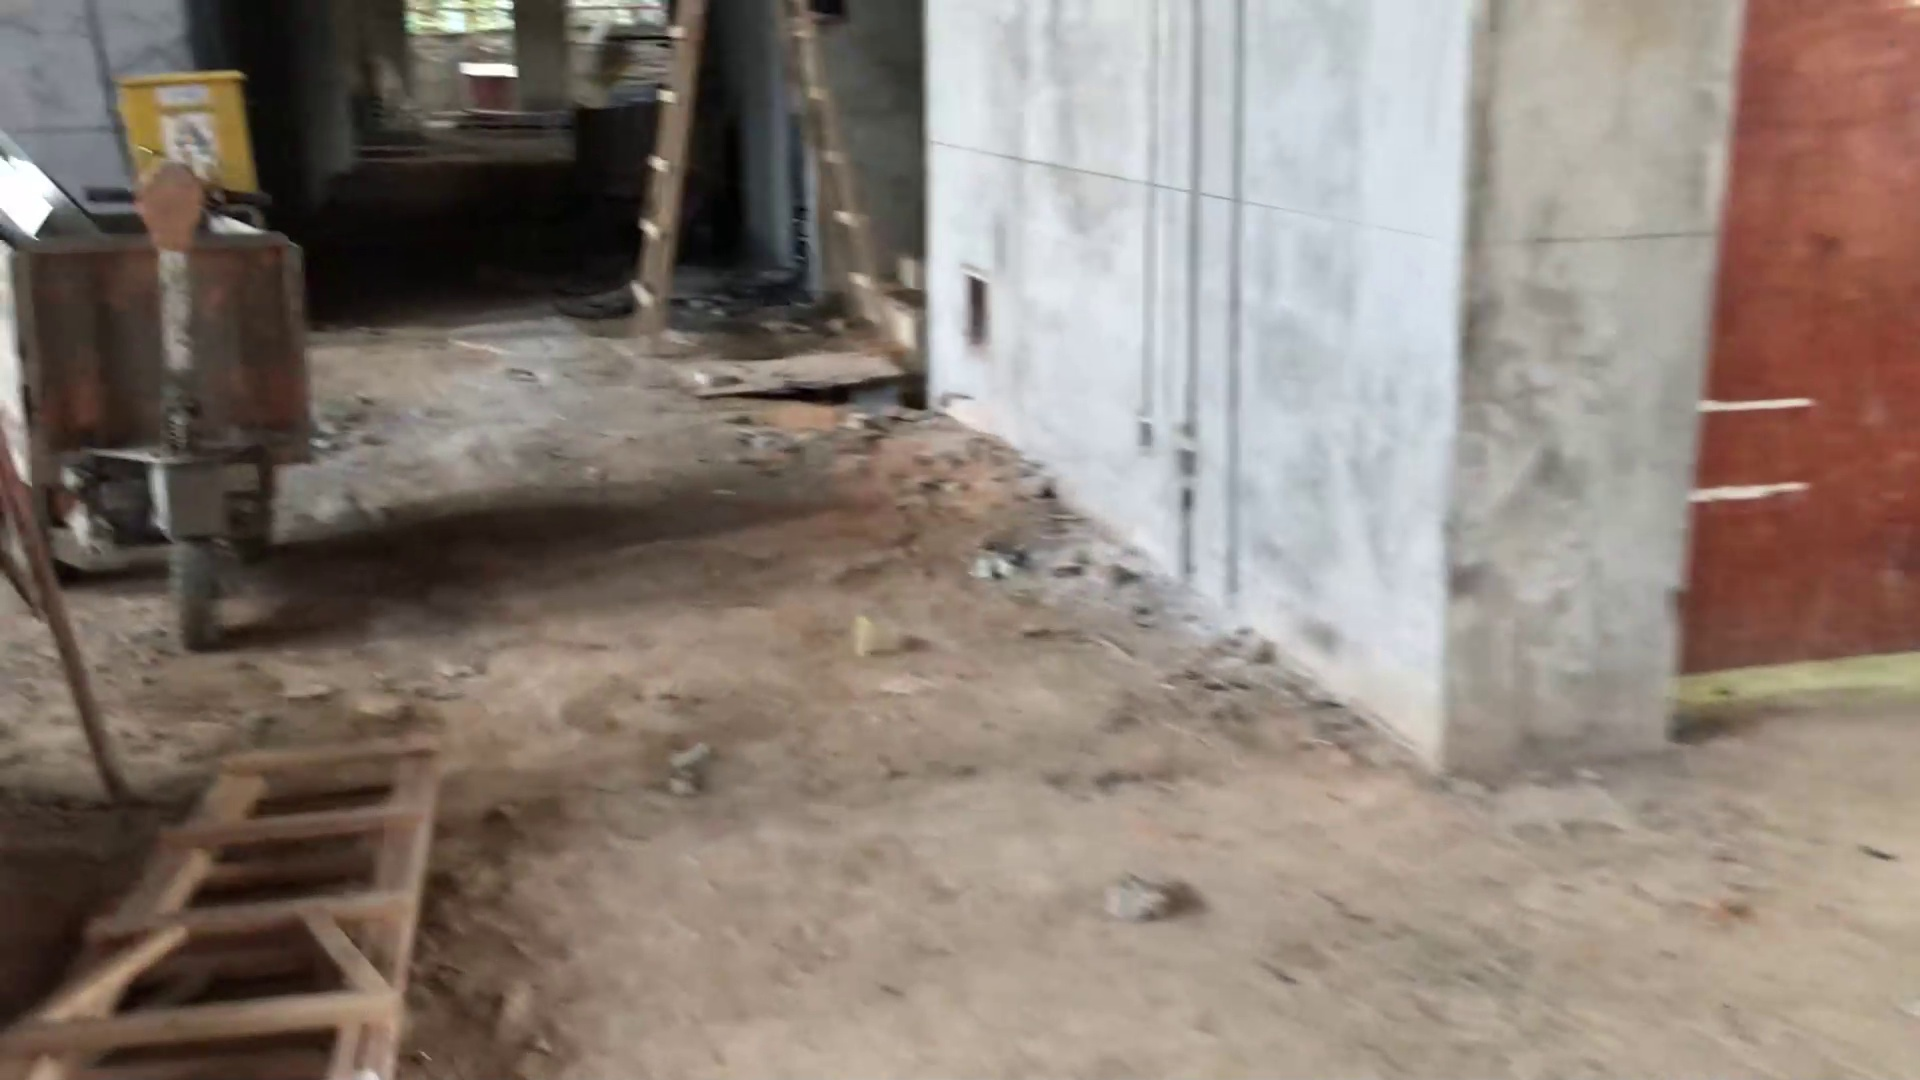ebox: (76, 42, 295, 216)
